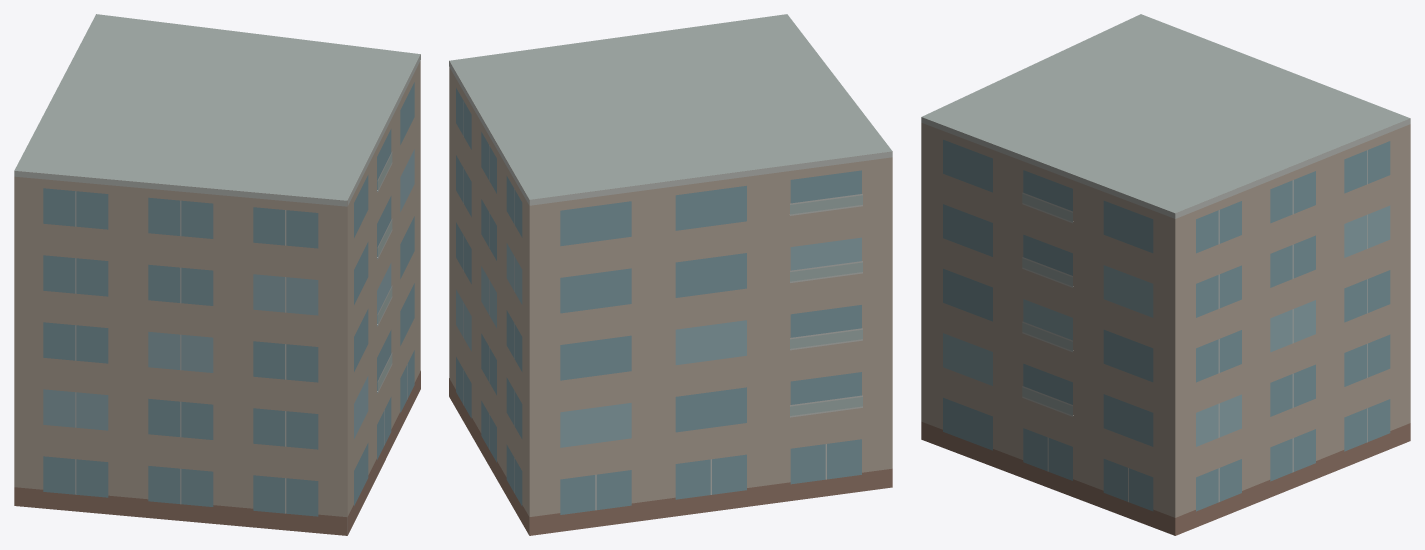
Rendered from survey-upis-32832457.glb.
3 views of the same model, side by side, from view 1: azimuth 30°, elevation 25°; view 2: azimuth 150°, elevation 25°; view 3: azimuth 270°, elevation 25° (orthographic). The views are drawn at different scales.
Parts seen in each view (by area): view 1: survey-upis-32832457.tmp; view 2: survey-upis-32832457.tmp; view 3: survey-upis-32832457.tmp.
Boxes of the visible parts, left/top/right/bottom form: survey-upis-32832457.tmp: left=14, top=14, right=420, bottom=535; survey-upis-32832457.tmp: left=449, top=14, right=892, bottom=535; survey-upis-32832457.tmp: left=921, top=14, right=1410, bottom=535.
Size of the model in its own units: 18.36 by 13.85 by 19.05.
